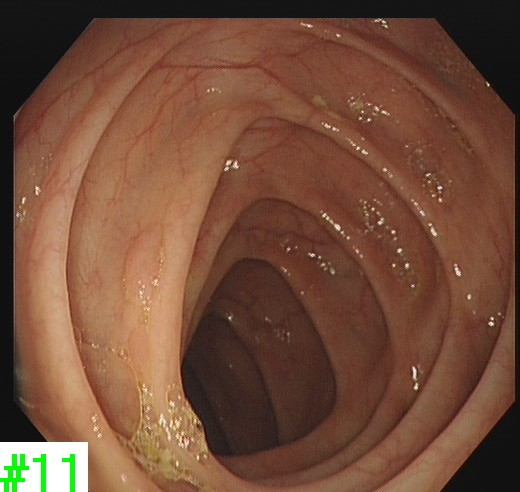adenoma: (118, 222, 164, 313)
